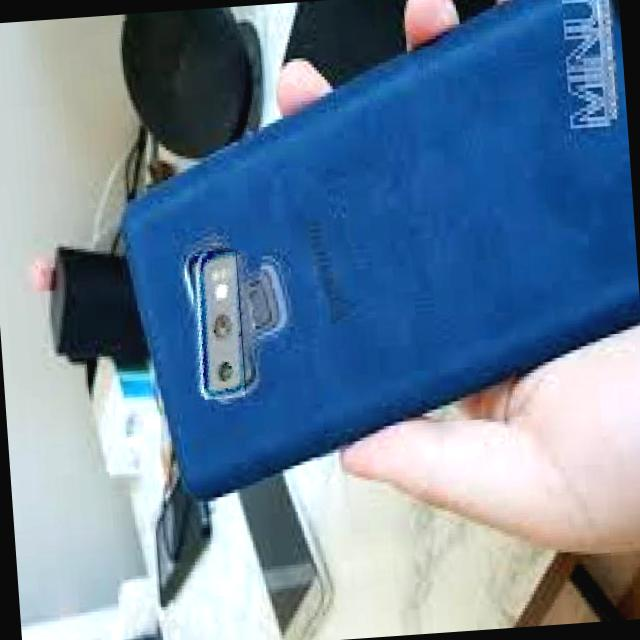lens_back: (190, 238, 245, 403)
